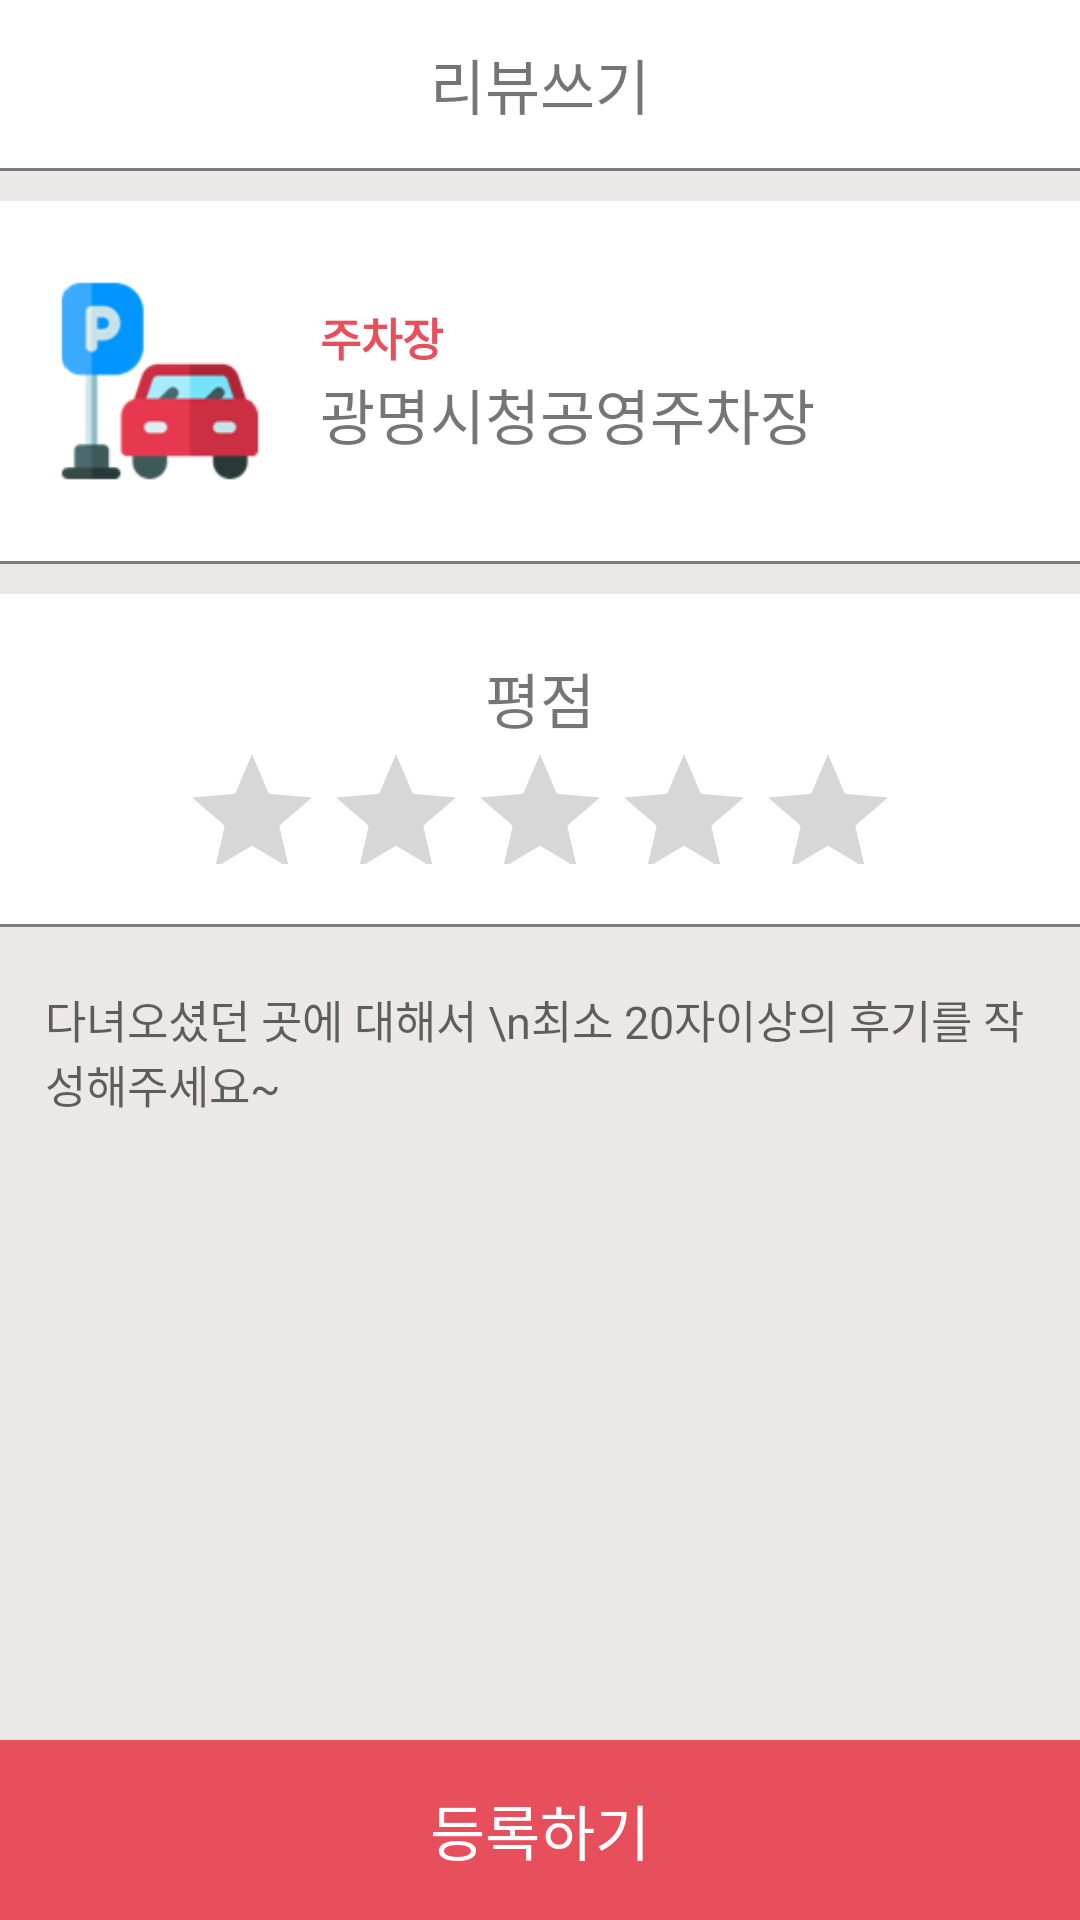

Screen size 1080x1920. Icon name, then its box in pixels as (x1, y1, x2, y2):
parking: (61, 282, 259, 480)
